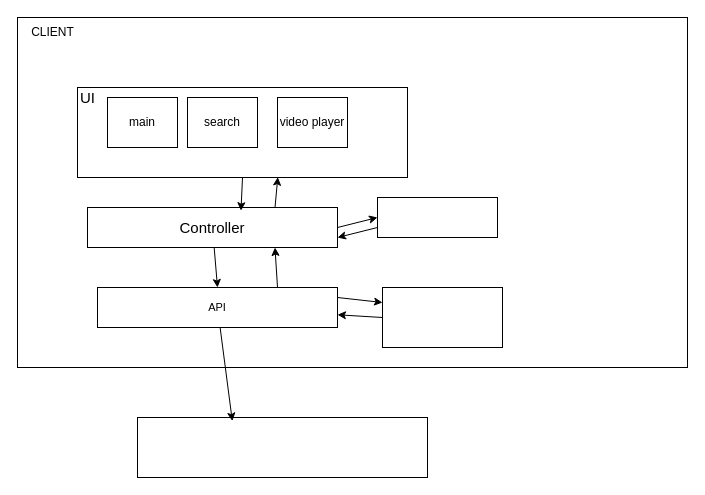
Image size: 705x495. Some labels were removed from this diagram. The shapes that lost their labels are listed below. From the top down, each one's centre as x and y in pixels, then its label:
pixel 437 217: Store
pixel 442 317: API Cache
pixel 282 447: API Server
